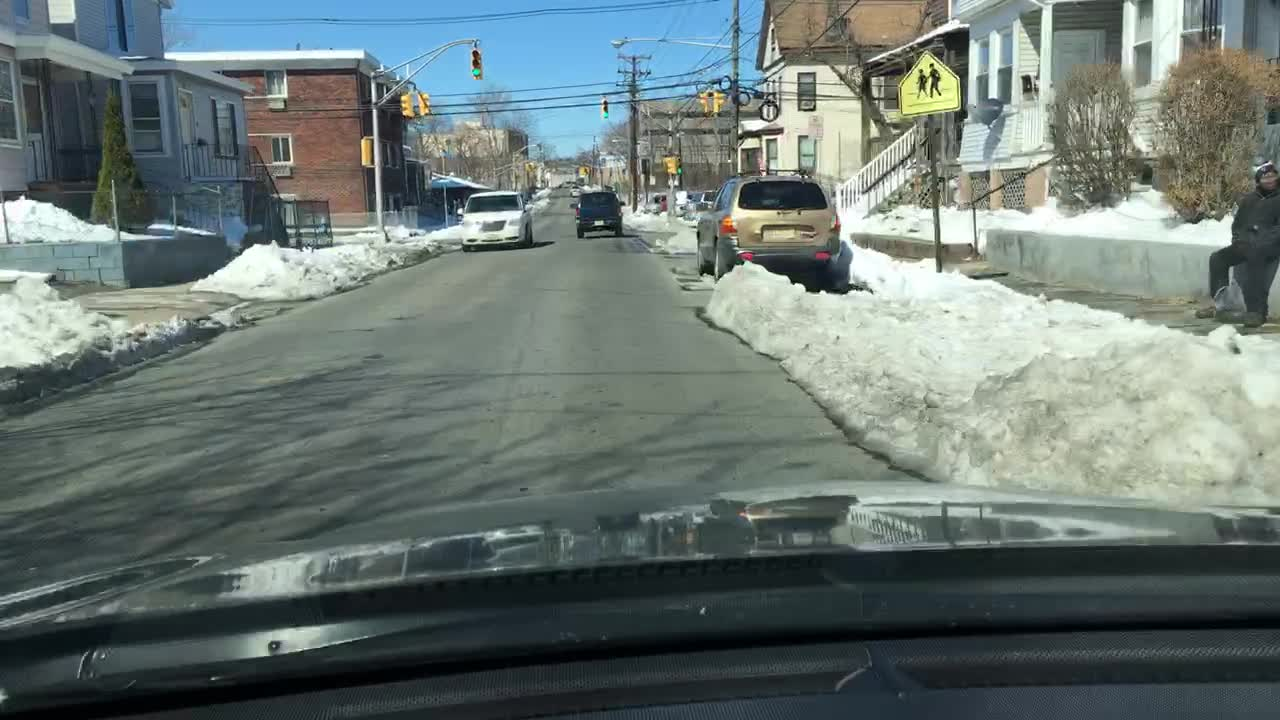car: (691, 172, 845, 281), (456, 191, 536, 253), (571, 191, 627, 240)
person: (1198, 156, 1275, 327)
traffic light: (464, 36, 489, 86)
